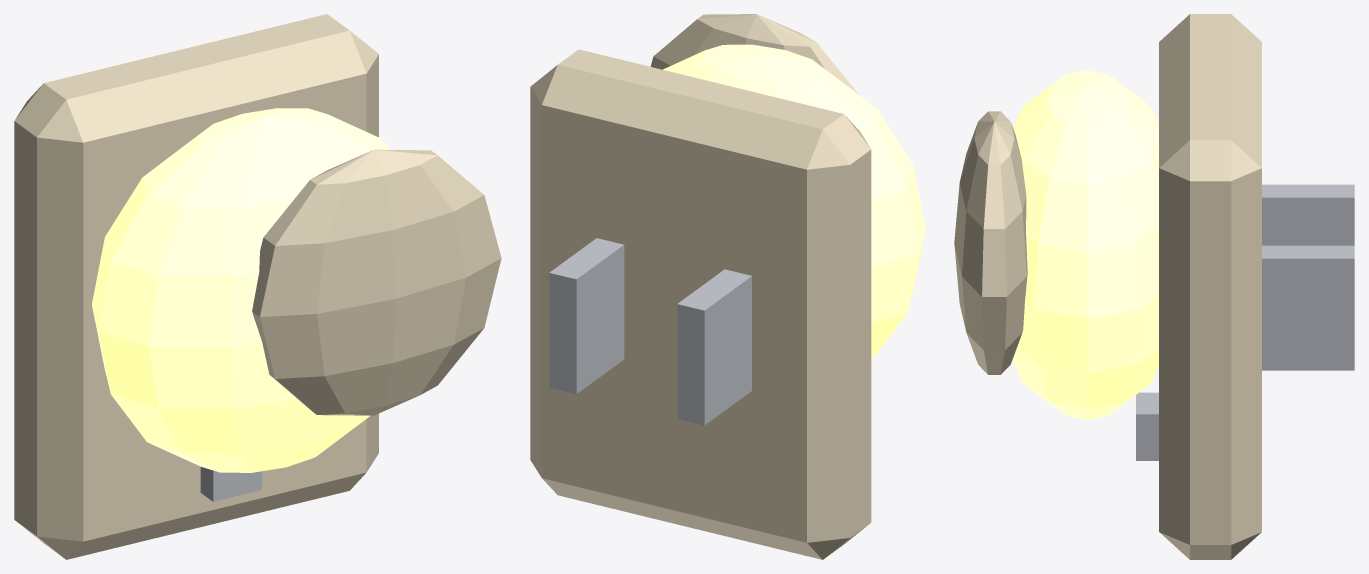
The model's file is night_light.fbx.
3 renders of one model, left to right at view 1: azimuth 30°, elevation 25°; view 2: azimuth 150°, elevation 25°; view 3: azimuth 270°, elevation 25°, orthographic. The views are drawn at different scales.
Visible parts, largest first — view 1: night_light; view 2: night_light; view 3: night_light.
Boxes of the visible parts, x1=… form: night_light: x1=14, y1=14, x2=501, y2=559; night_light: x1=530, y1=14, x2=925, y2=559; night_light: x1=954, y1=14, x2=1354, y2=559.
Bounding box in the file's own units: 0.0717 × 0.09 × 0.0778.
